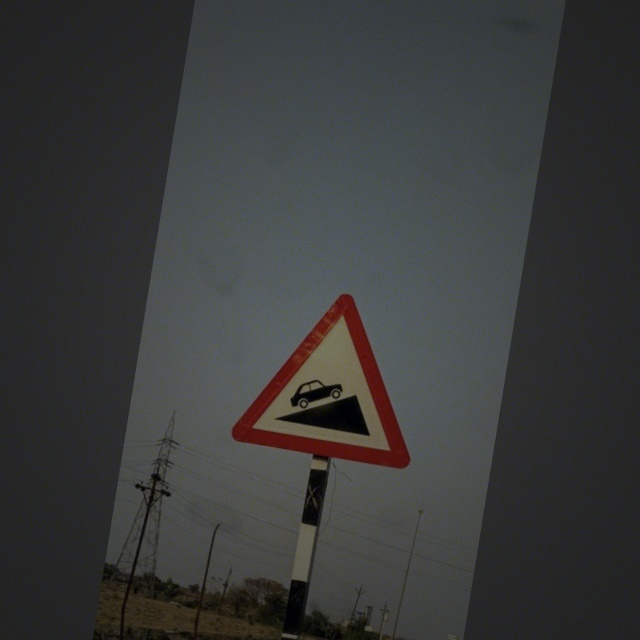Steep_Ascent: (231, 280, 436, 475)
